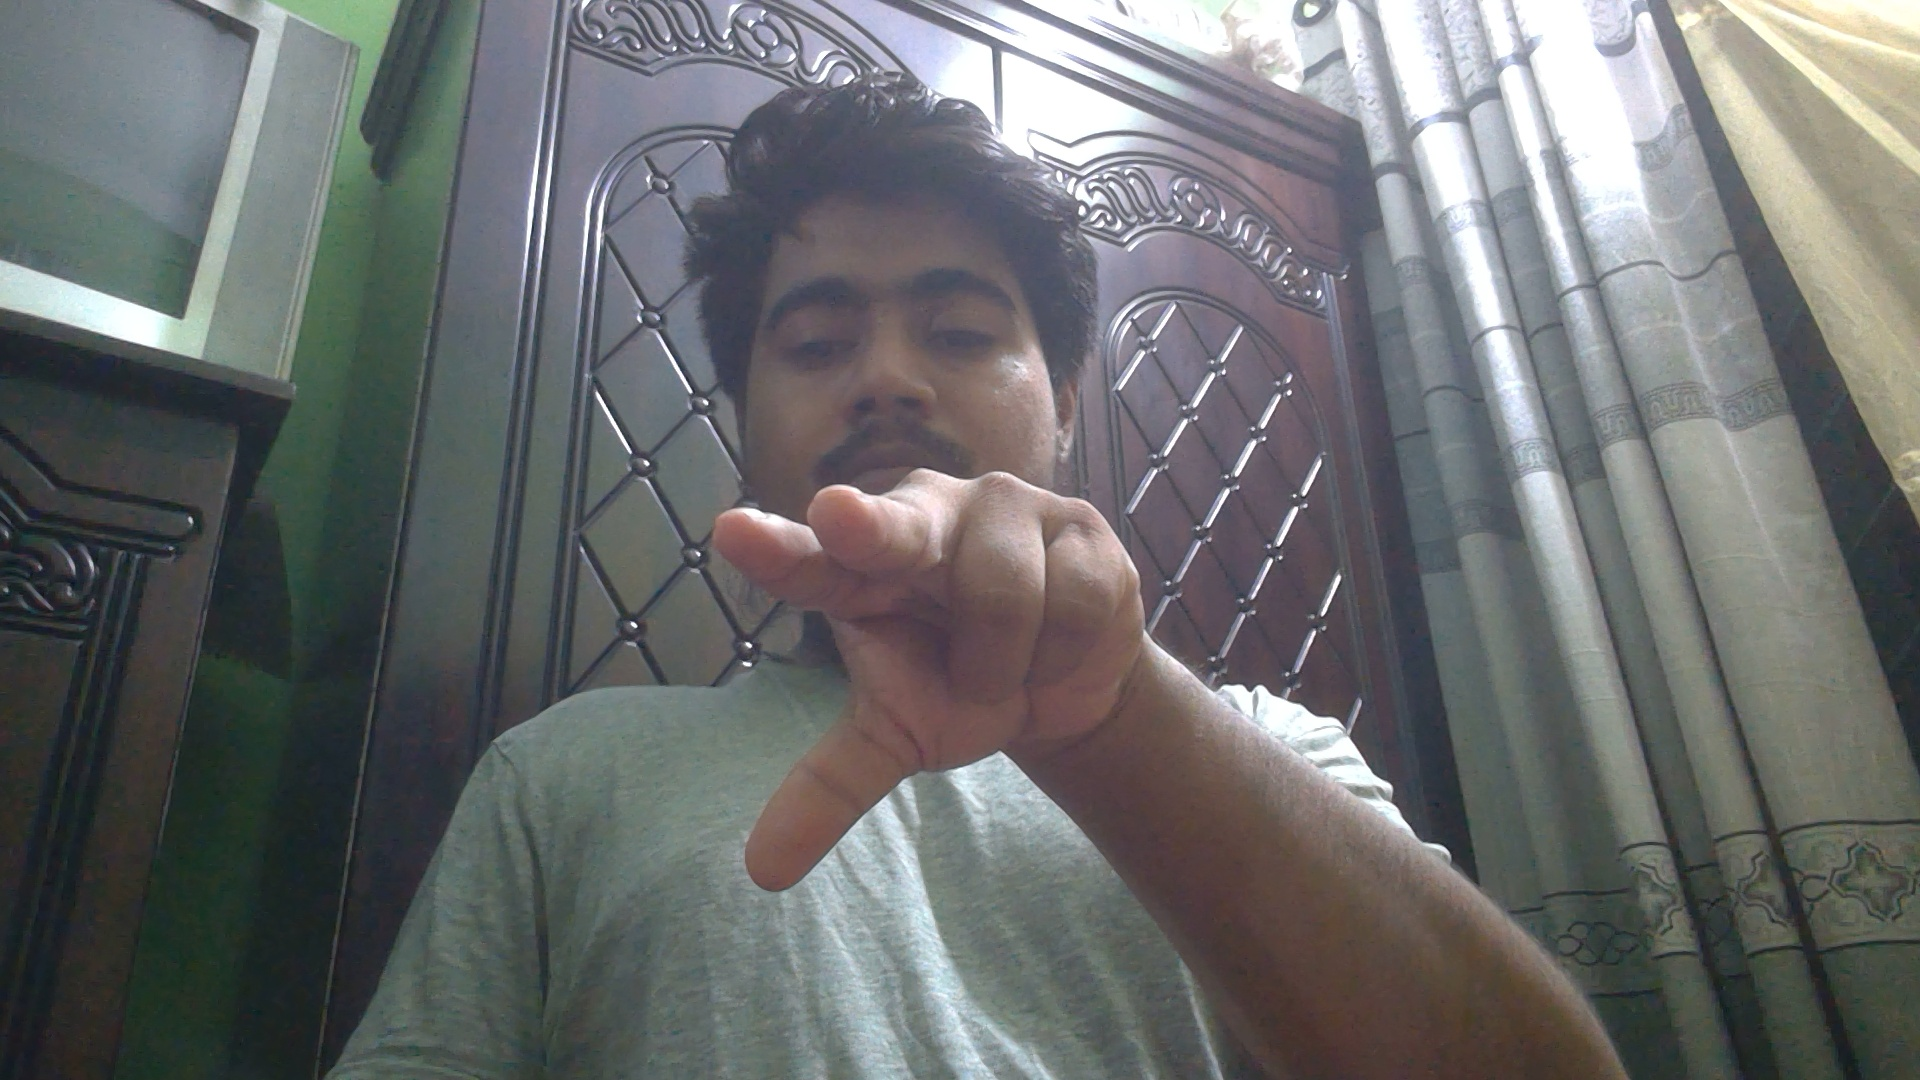No: (698, 459, 1159, 906)
